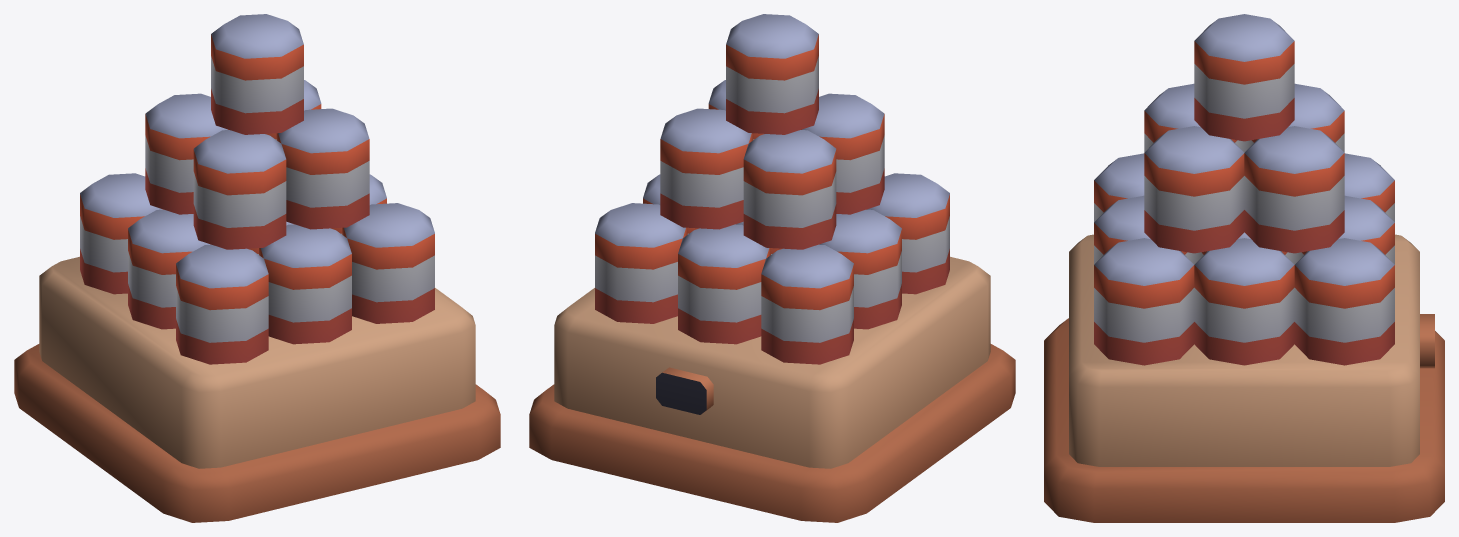
The model's file is display_cans.fbx.
3 views of the same model, side by side, from view 1: azimuth 30°, elevation 25°; view 2: azimuth 150°, elevation 25°; view 3: azimuth 270°, elevation 25° (orthographic). The views are drawn at different scales.
Visible parts, largest first — view 1: display-cans; view 2: display-cans; view 3: display-cans.
Boxes of the visible parts, x1,y1,x2,y2 form: display-cans: (14, 14, 500, 522); display-cans: (529, 14, 1015, 522); display-cans: (1044, 14, 1444, 522).
Bounding box in the file's own units: 0.8889 × 1 × 0.8889.
